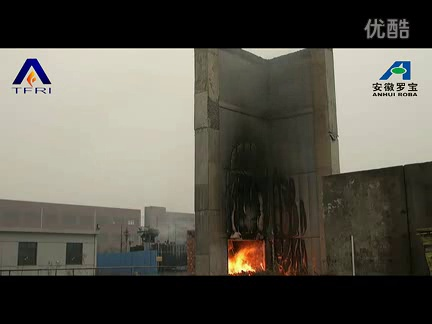fire: (229, 243, 264, 274)
